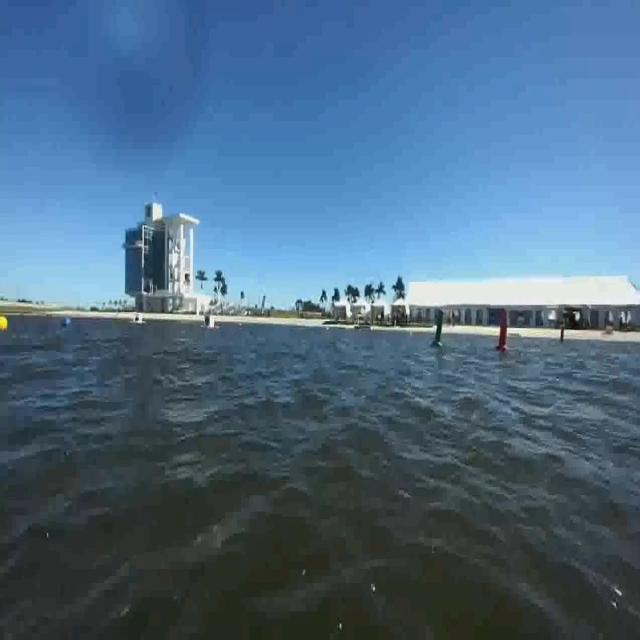green-column-buoy: (431, 309, 446, 350)
red-column-buoy: (498, 308, 510, 354)
yellow-buoy: (0, 314, 9, 333)
